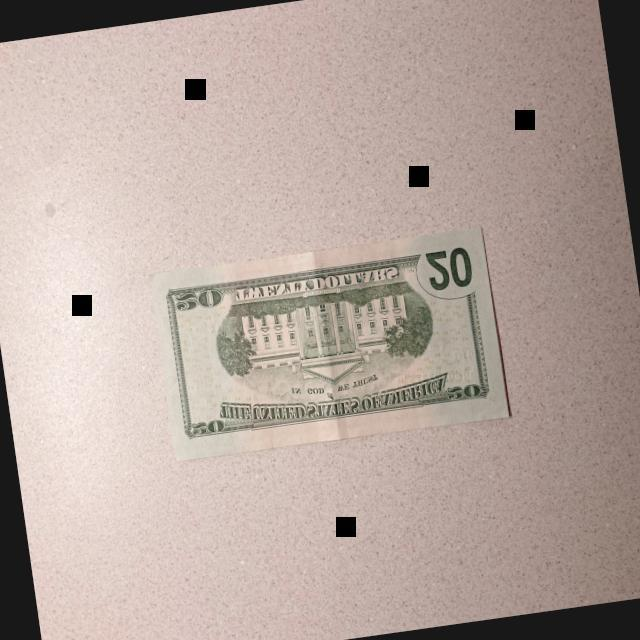twenty: (148, 222, 510, 461)
